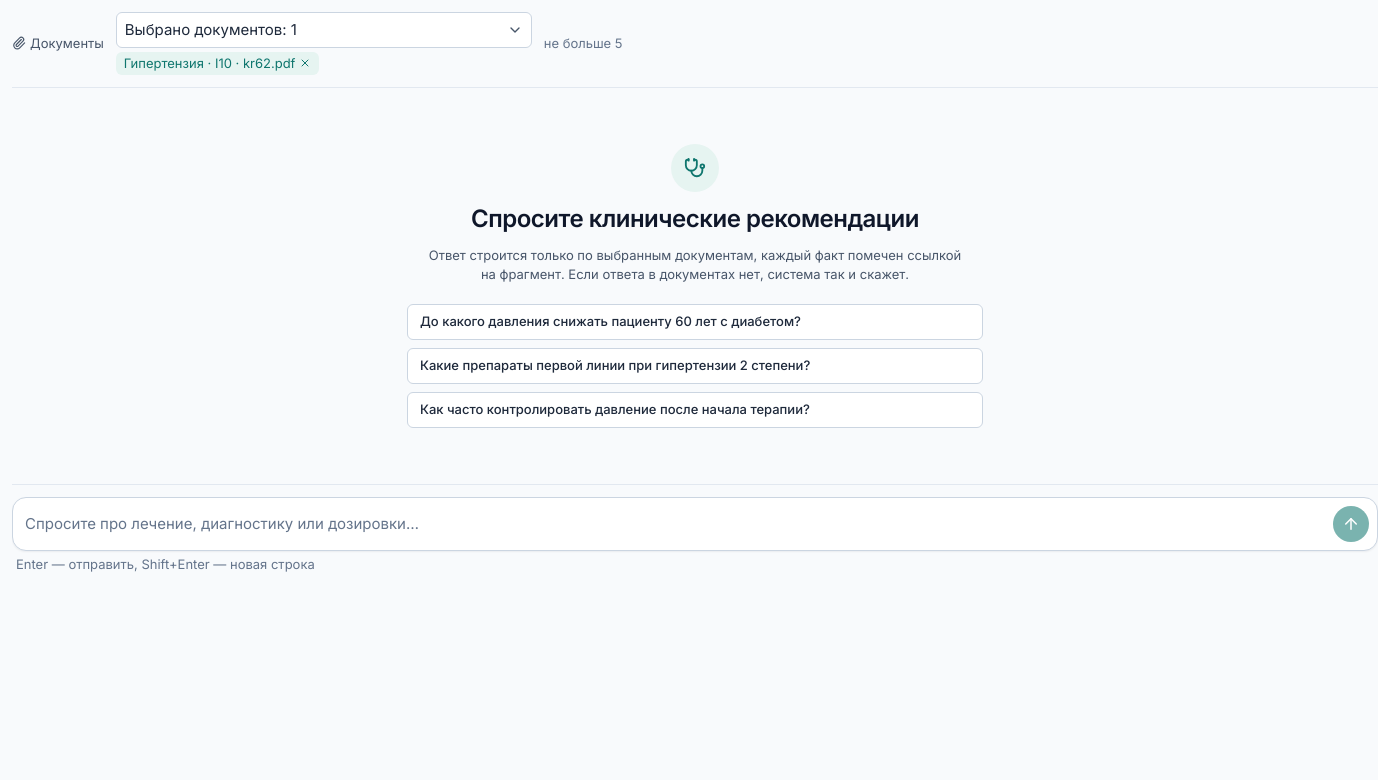
Test case: ChatPage › ошибку сервера показывает с возможностью повторить
The image size is (1378, 780).
Type "до какого давления снижать пациенту 60 лет?" into the text box named "Вопрос по клинрекам" at (673, 524), box [21,506,1325,542]
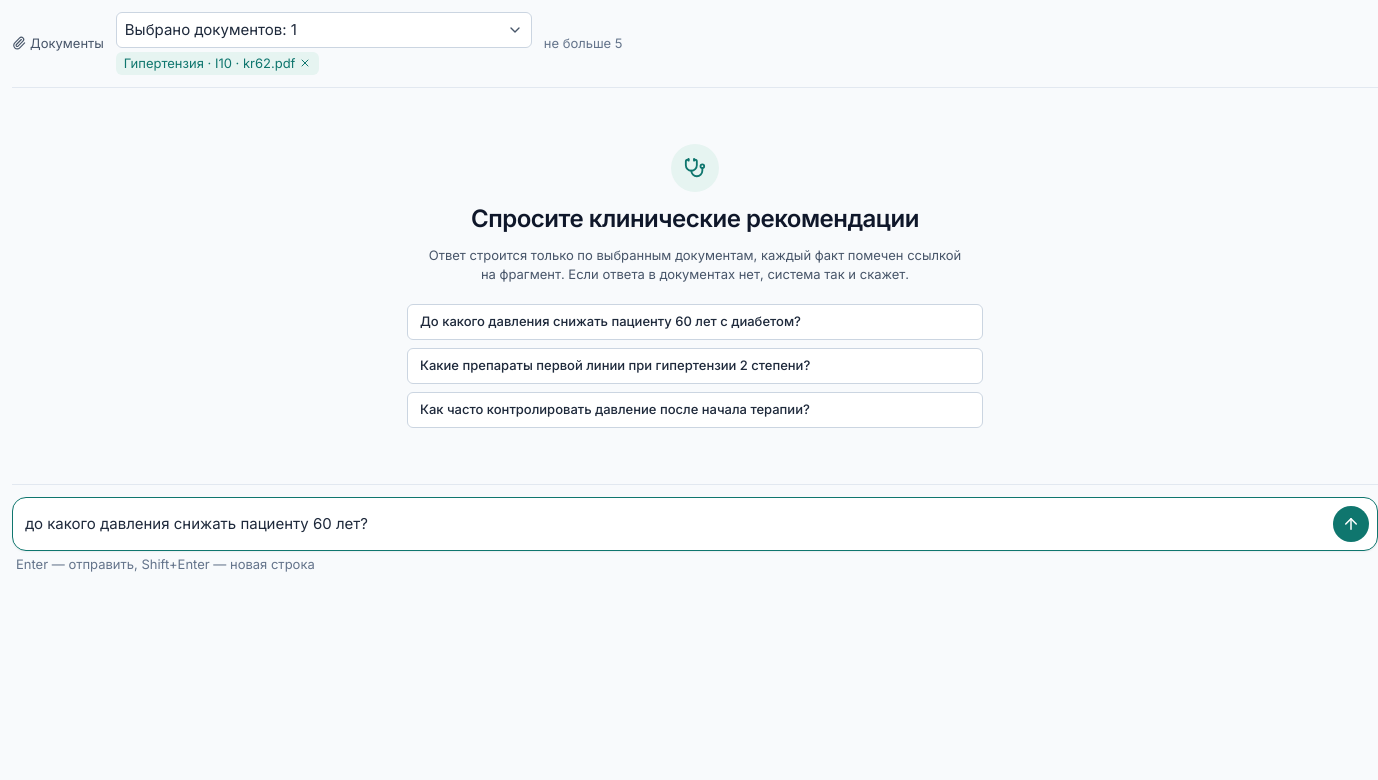
Click the button named "Отправить" at (1351, 524), box [1333,506,1369,542]
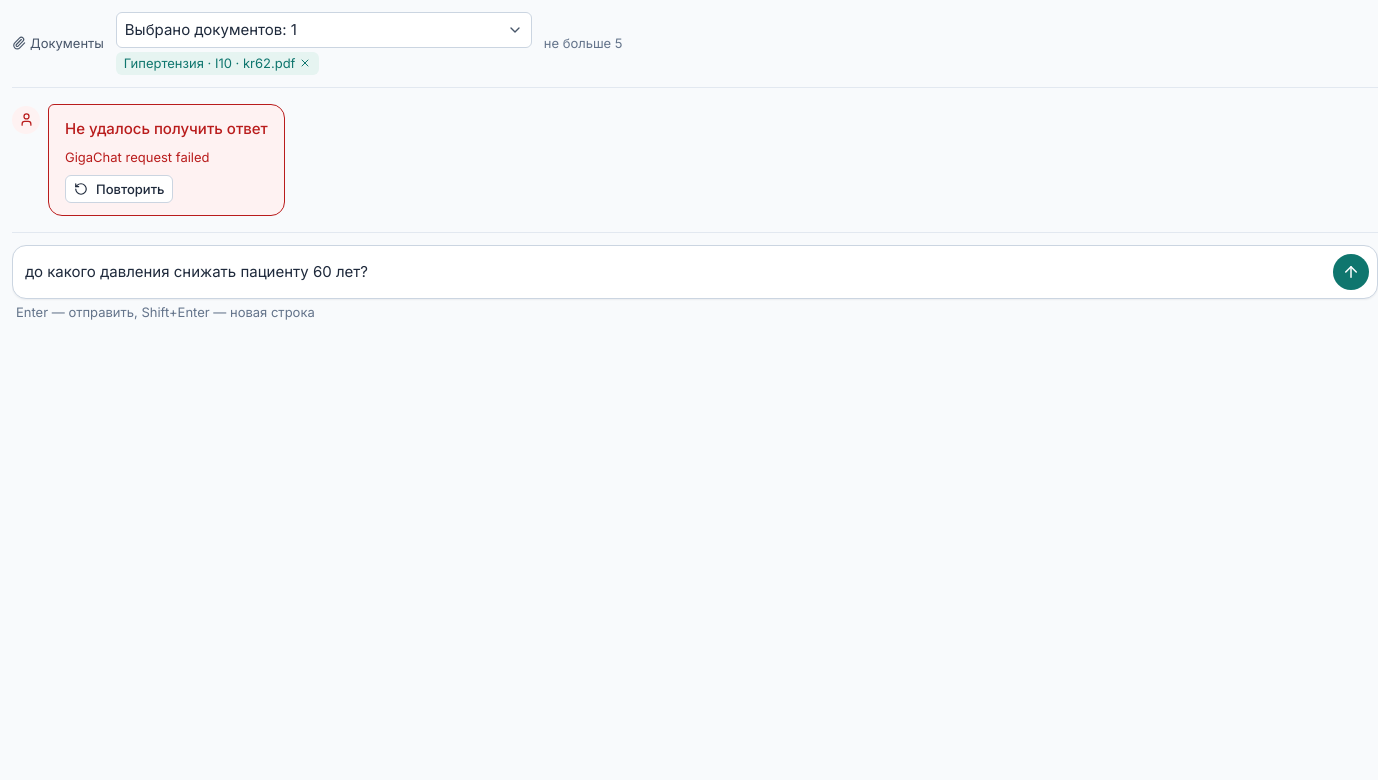
Check: the text "Не удалось получить ответ" is shown, box [65,117,268,140]
Check: the text "GigaChat request failed" is shown, box [65,149,210,165]
Check: the button "Повторить" is shown, box [65,175,174,203]
